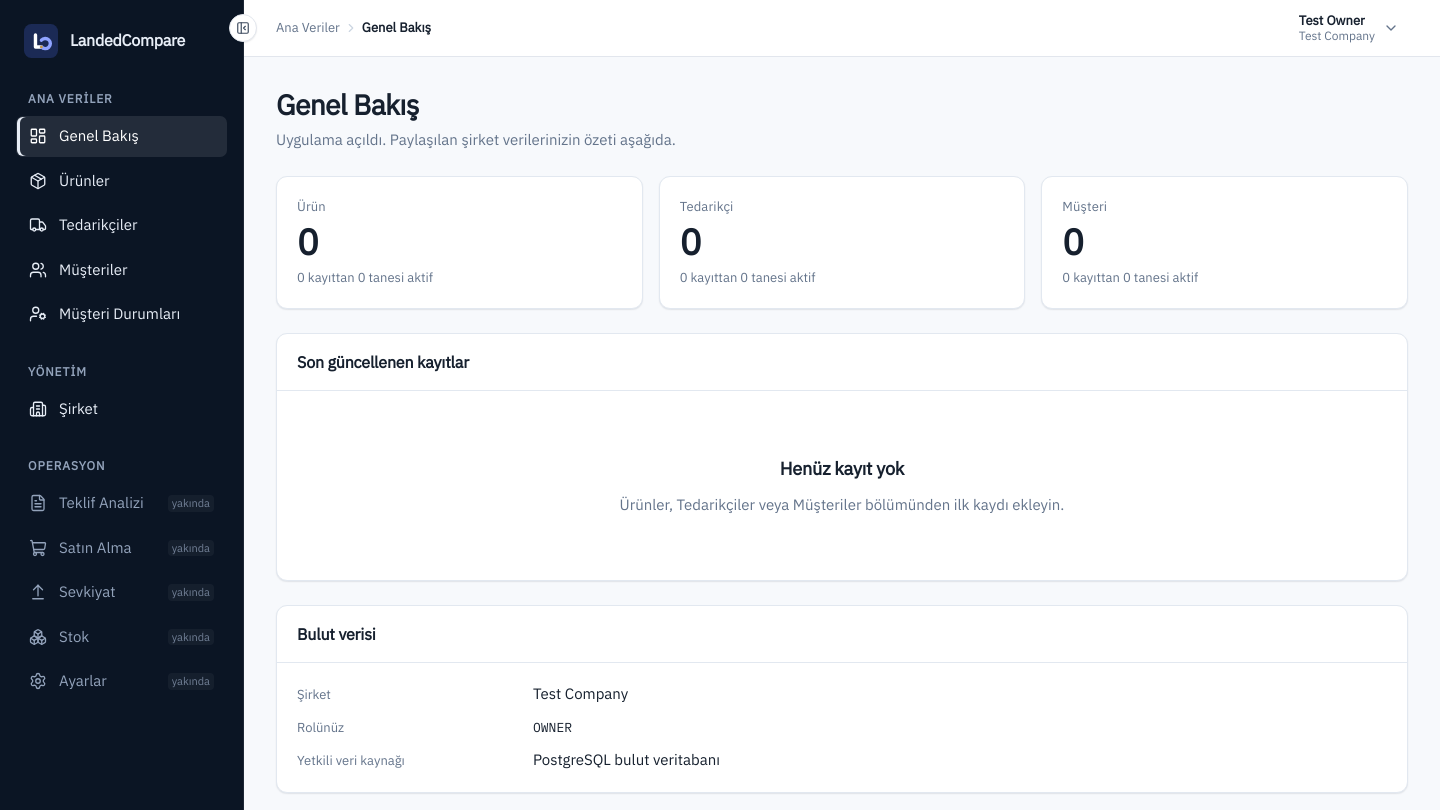
Test: customer statuses screen › labels the sort-order field "Liste sırası" and explains it is not a value score
The width and height of the screenshot is (1440, 810).
Expected: the navigation bar named "Ana menü" is shown, [16,82,227,790]
Click the link "Müşteri Durumları" at (105, 314), box [29,304,180,323]
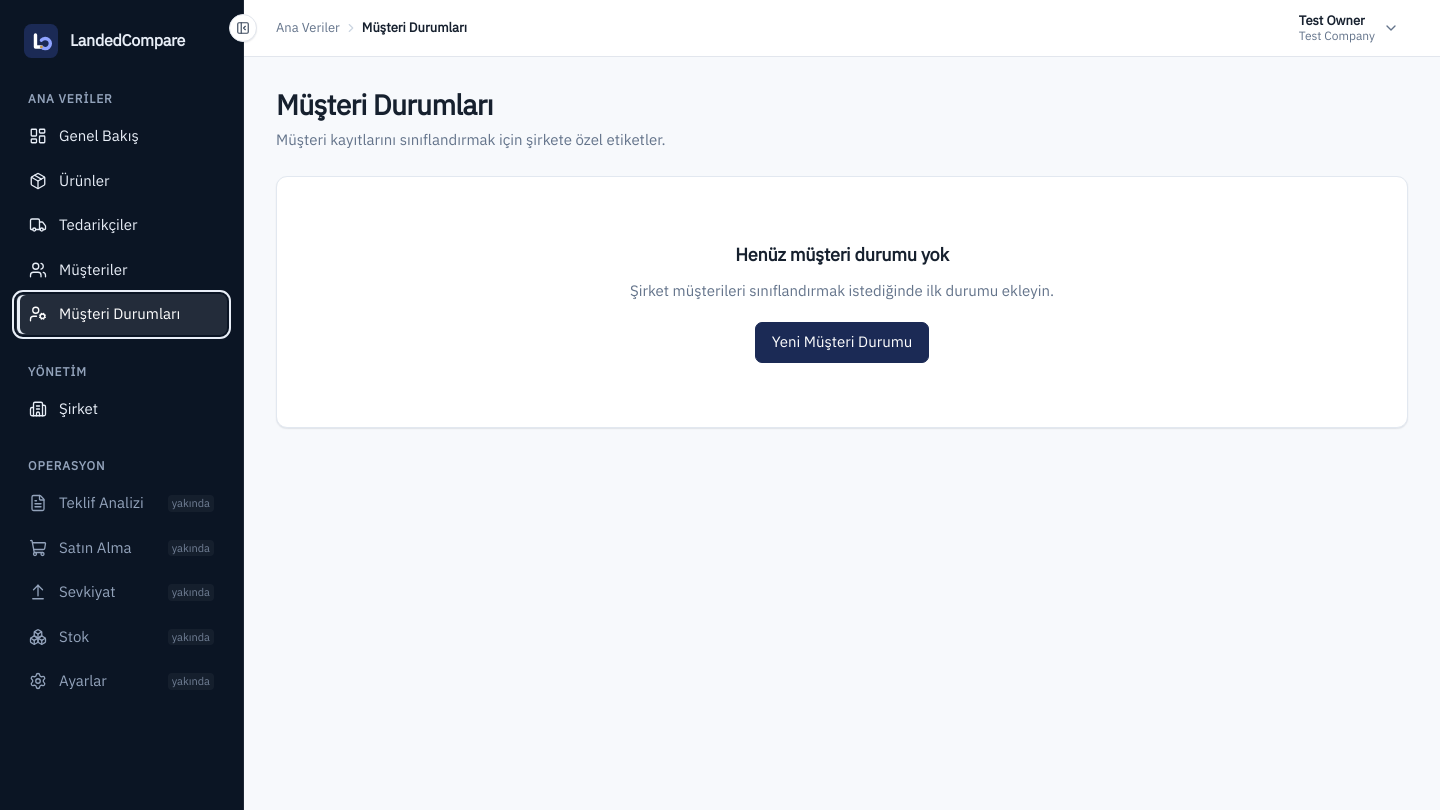
Expected: the heading "Müşteri Durumları" is shown, [276,86,493,123]
Click the button "Yeni Müşteri Durumu" at (842, 342), box [755,322,929,363]
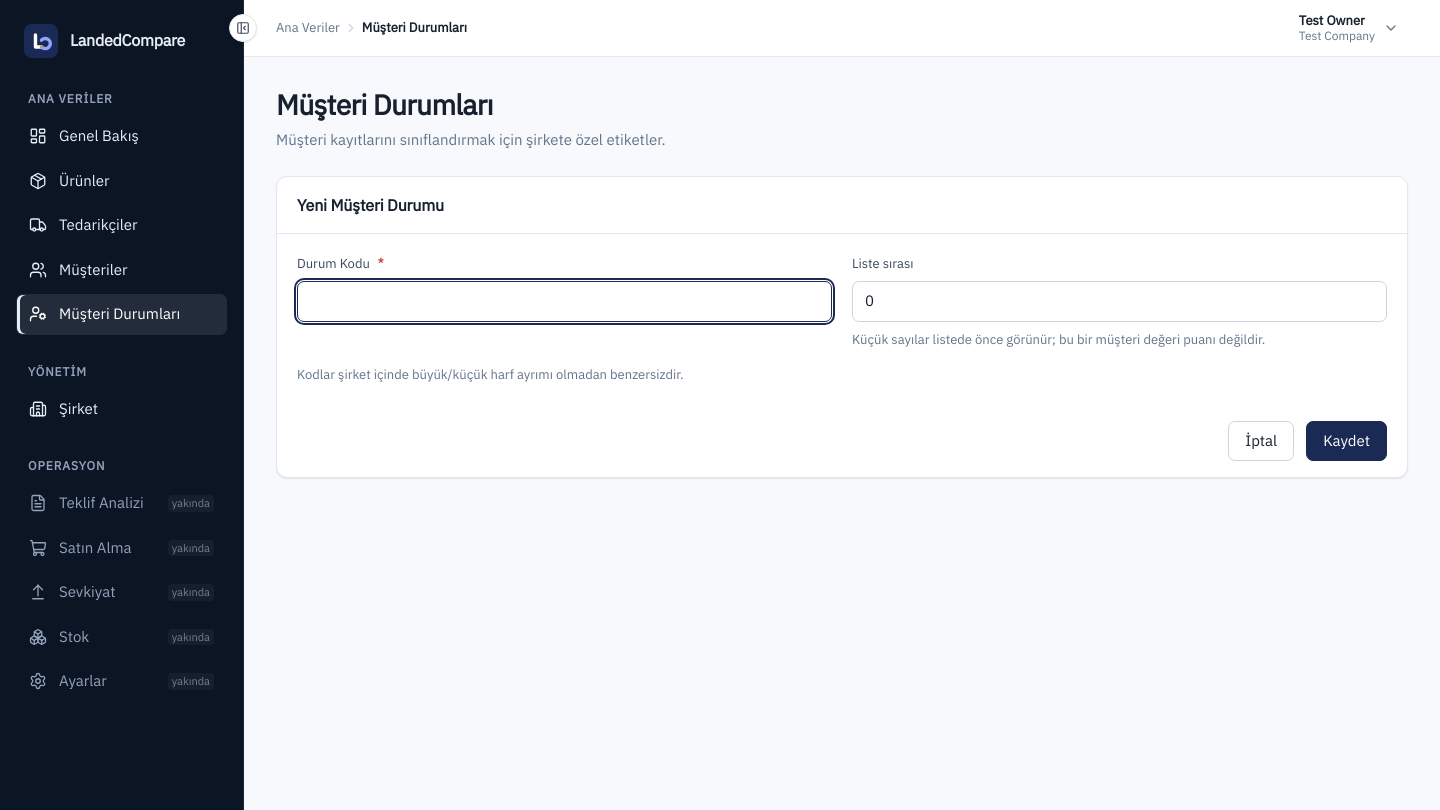
Expected: the field labelled "Liste sırası" is shown, [852,281,1387,322]
Expected: the text "Küçük sayılar listede önce görünür; bu bir müşteri değeri puanı değildir." is shown, [852,331,1265,348]
